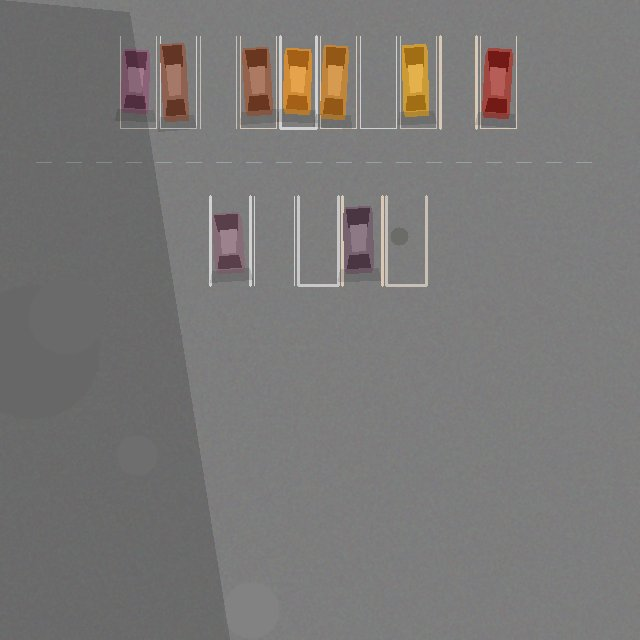space-empty: (254, 196, 294, 285), (298, 196, 338, 285), (386, 196, 426, 285), (200, 36, 236, 128), (360, 36, 396, 128), (440, 36, 476, 128)
space-occupied: (210, 196, 250, 285), (342, 196, 382, 285), (120, 36, 156, 128), (160, 36, 196, 128), (240, 36, 276, 128), (280, 36, 316, 128), (320, 36, 356, 128), (400, 36, 436, 128), (480, 36, 516, 128)
